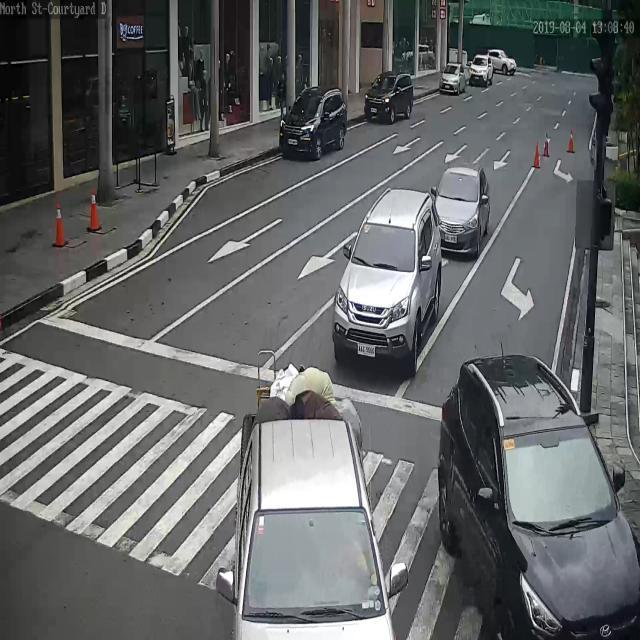car: (436, 354, 640, 638), (237, 409, 398, 640), (331, 190, 446, 376), (433, 167, 492, 260), (280, 83, 348, 160), (364, 74, 415, 127), (442, 64, 471, 96), (469, 54, 495, 86), (486, 49, 517, 75)
